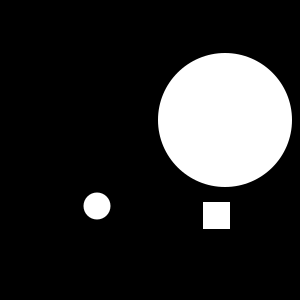circle: (203, 202, 230, 229)
rectangle: (158, 53, 292, 187), (84, 192, 110, 220)
